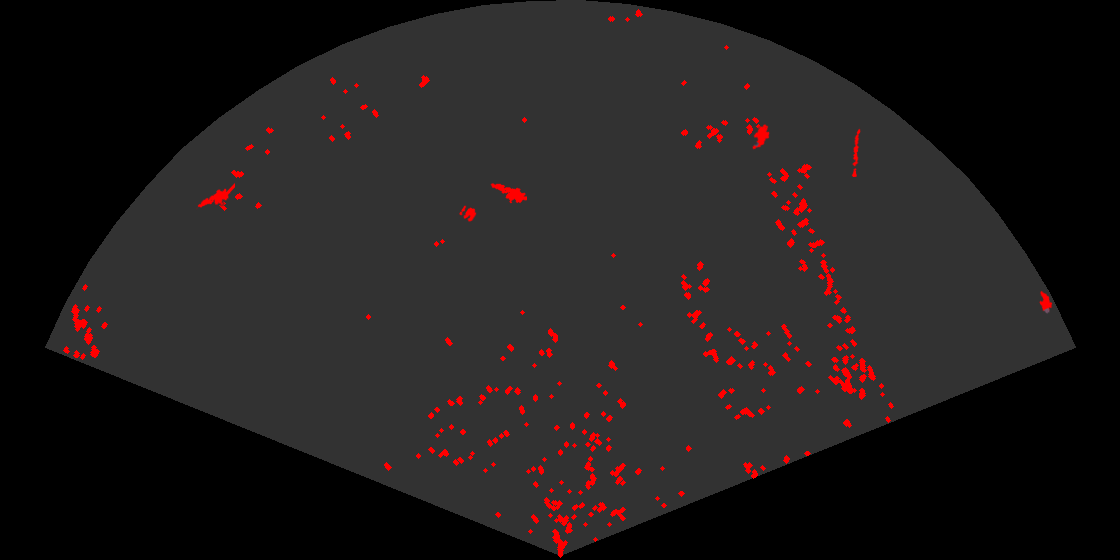AUV: (751, 123, 771, 151), (1038, 289, 1054, 315)
ball: (458, 204, 478, 223)
chain: (850, 127, 862, 177)
frogman: (196, 181, 235, 211), (490, 182, 527, 205)
